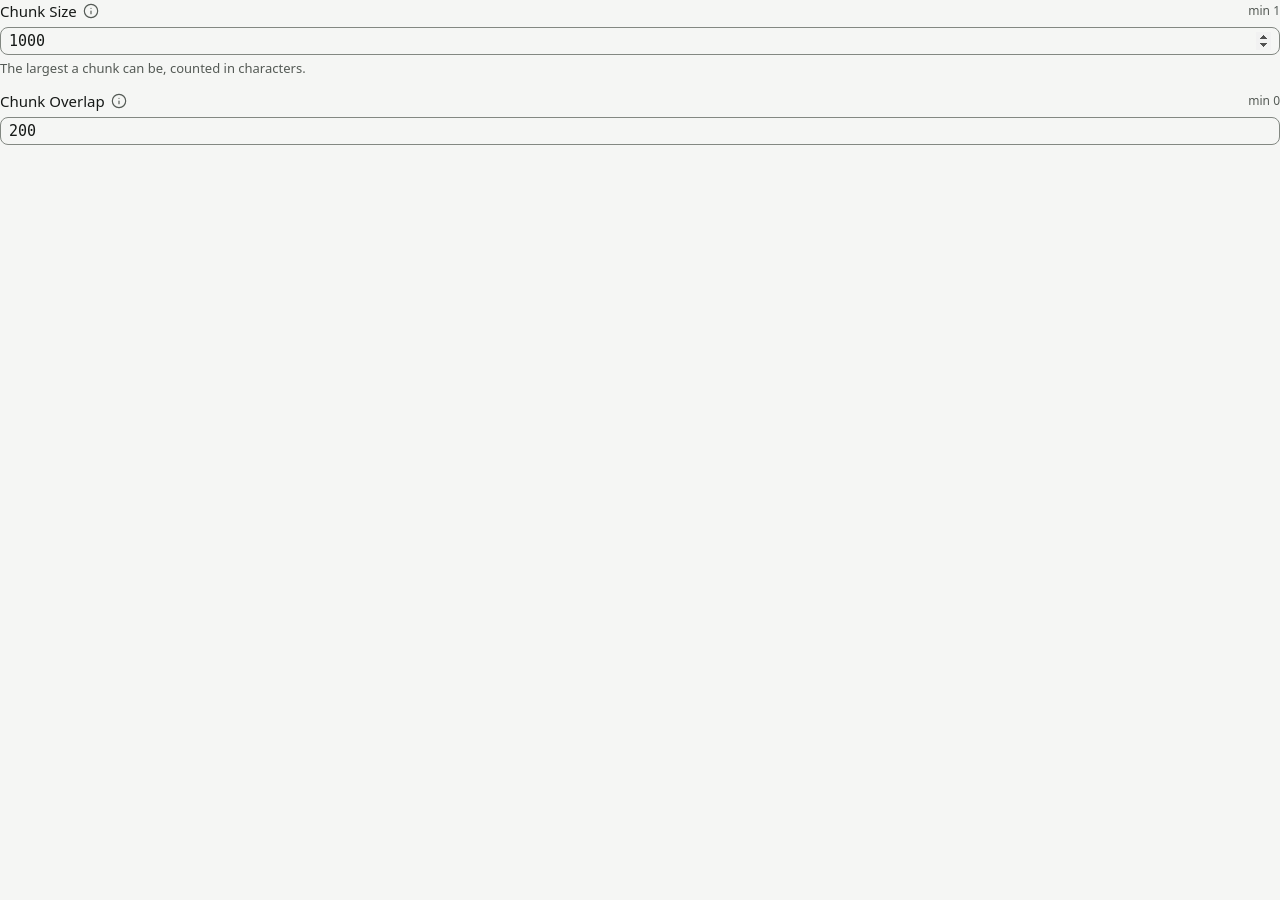
Scenario: SchemaForm with lessons › puts each field's lesson behind its info button, not under the control
Expected: the text "How much text each chunk repeats." is not shown
Click the button named "About Chunk Overlap". click: (119, 101)
box: [109, 91, 129, 111]
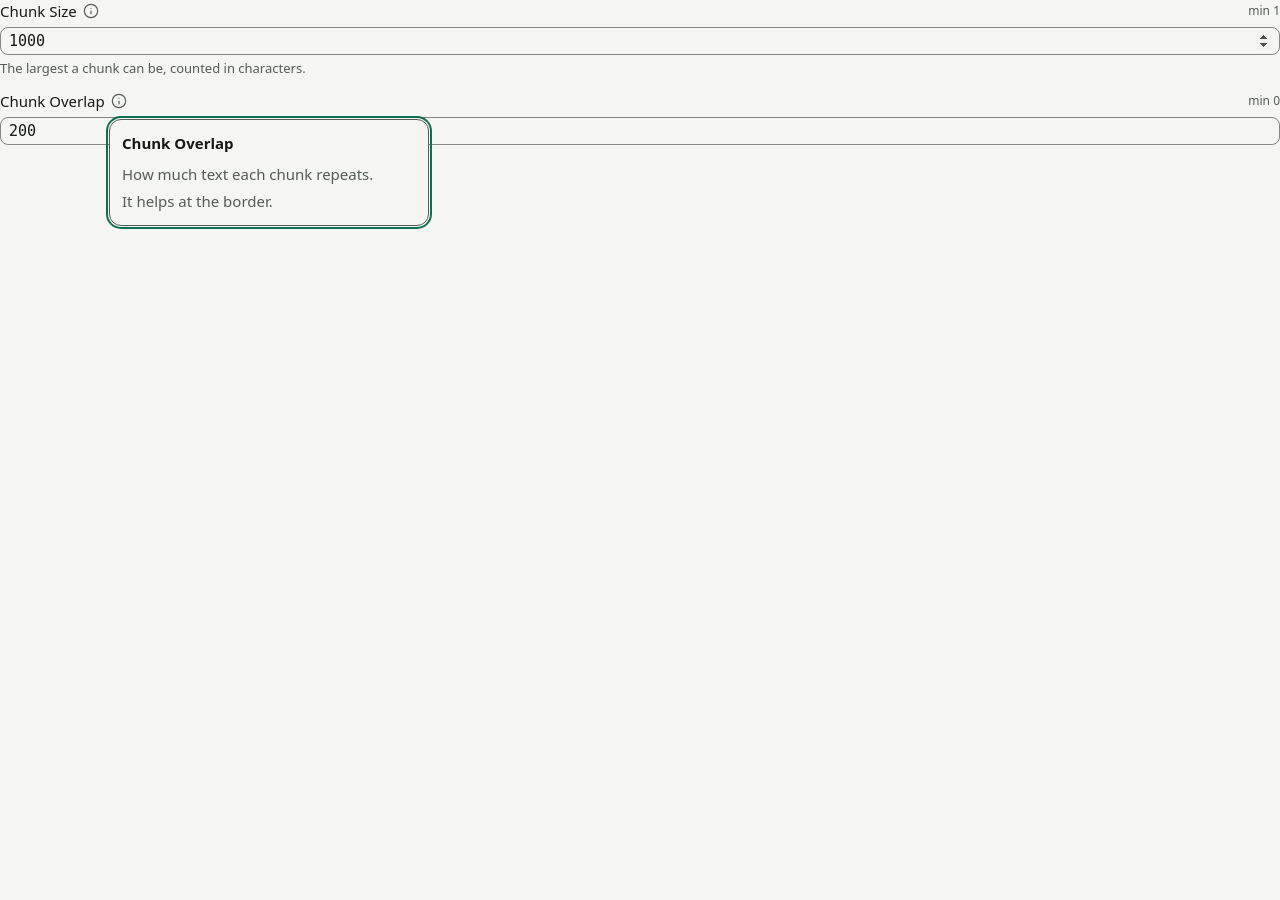
Expected: the text "How much text each chunk repeats." is shown, [122, 162, 416, 186]
Expected: the text "It helps at the border." is shown, [122, 191, 273, 211]
